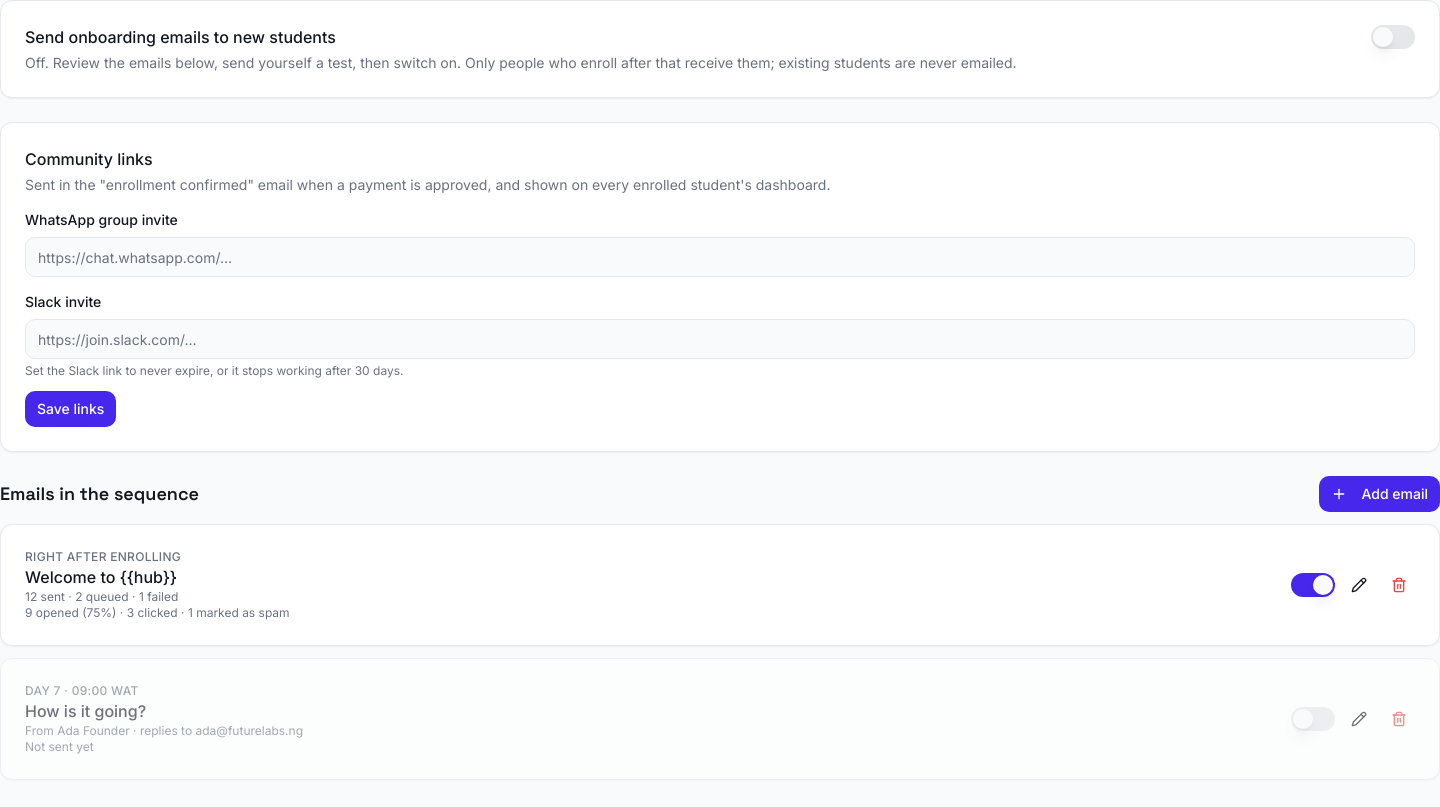
Test: OnboardingPanel › new emails default to the day after the last one
Click the button "Add email" at (1380, 494), box [1320,476,1439,512]
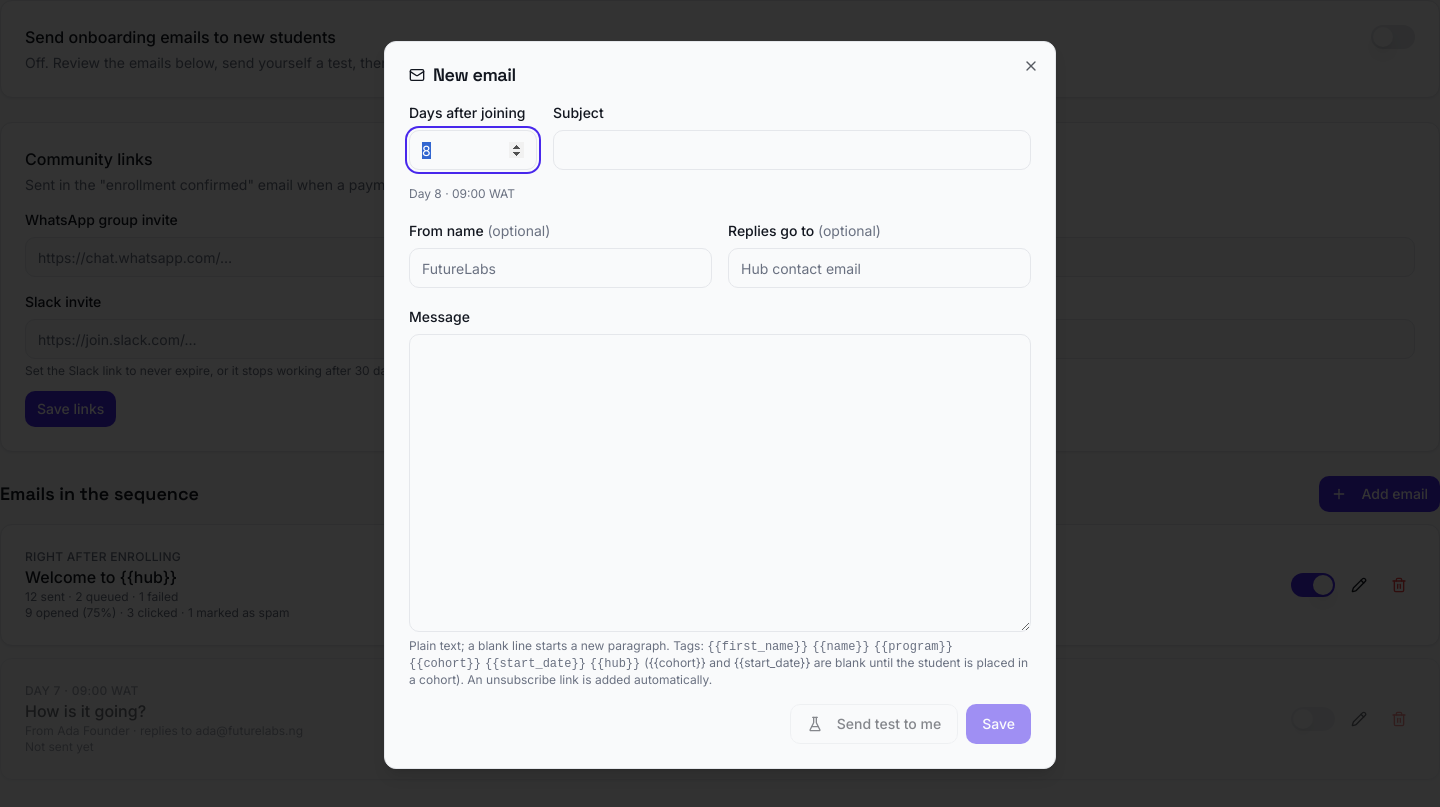
Check: the number field labelled "Days after joining" holds "8", box [409,130,537,170]
